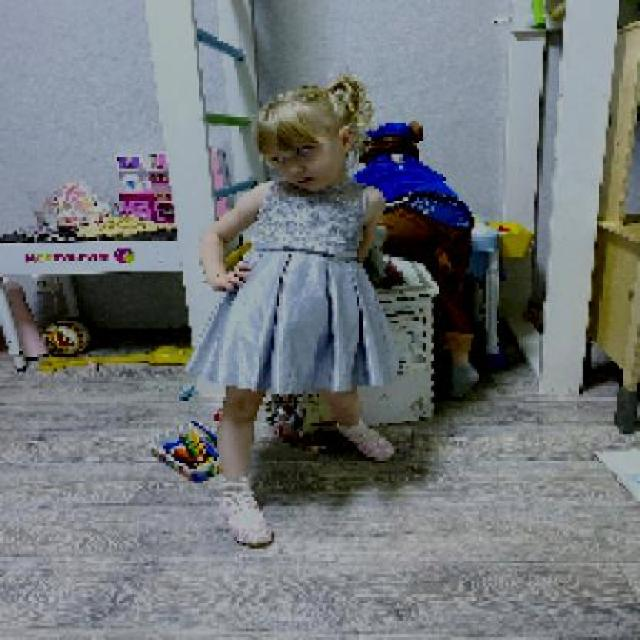child: (185, 67, 398, 547)
